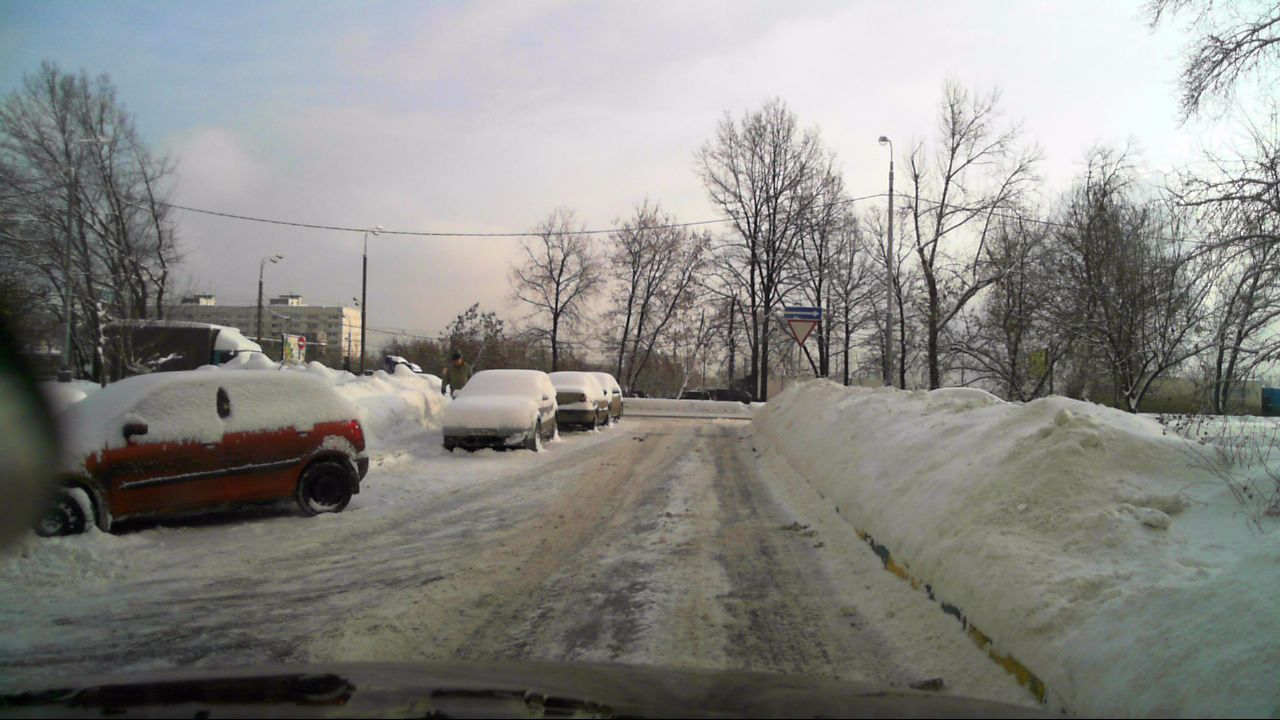One-Way Traffic: (784, 307, 822, 319)
